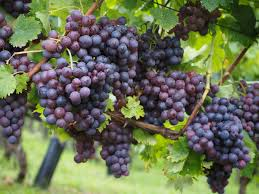Red Grapes: (66, 11, 143, 99), (35, 53, 112, 137), (192, 88, 253, 183), (138, 30, 195, 128)
